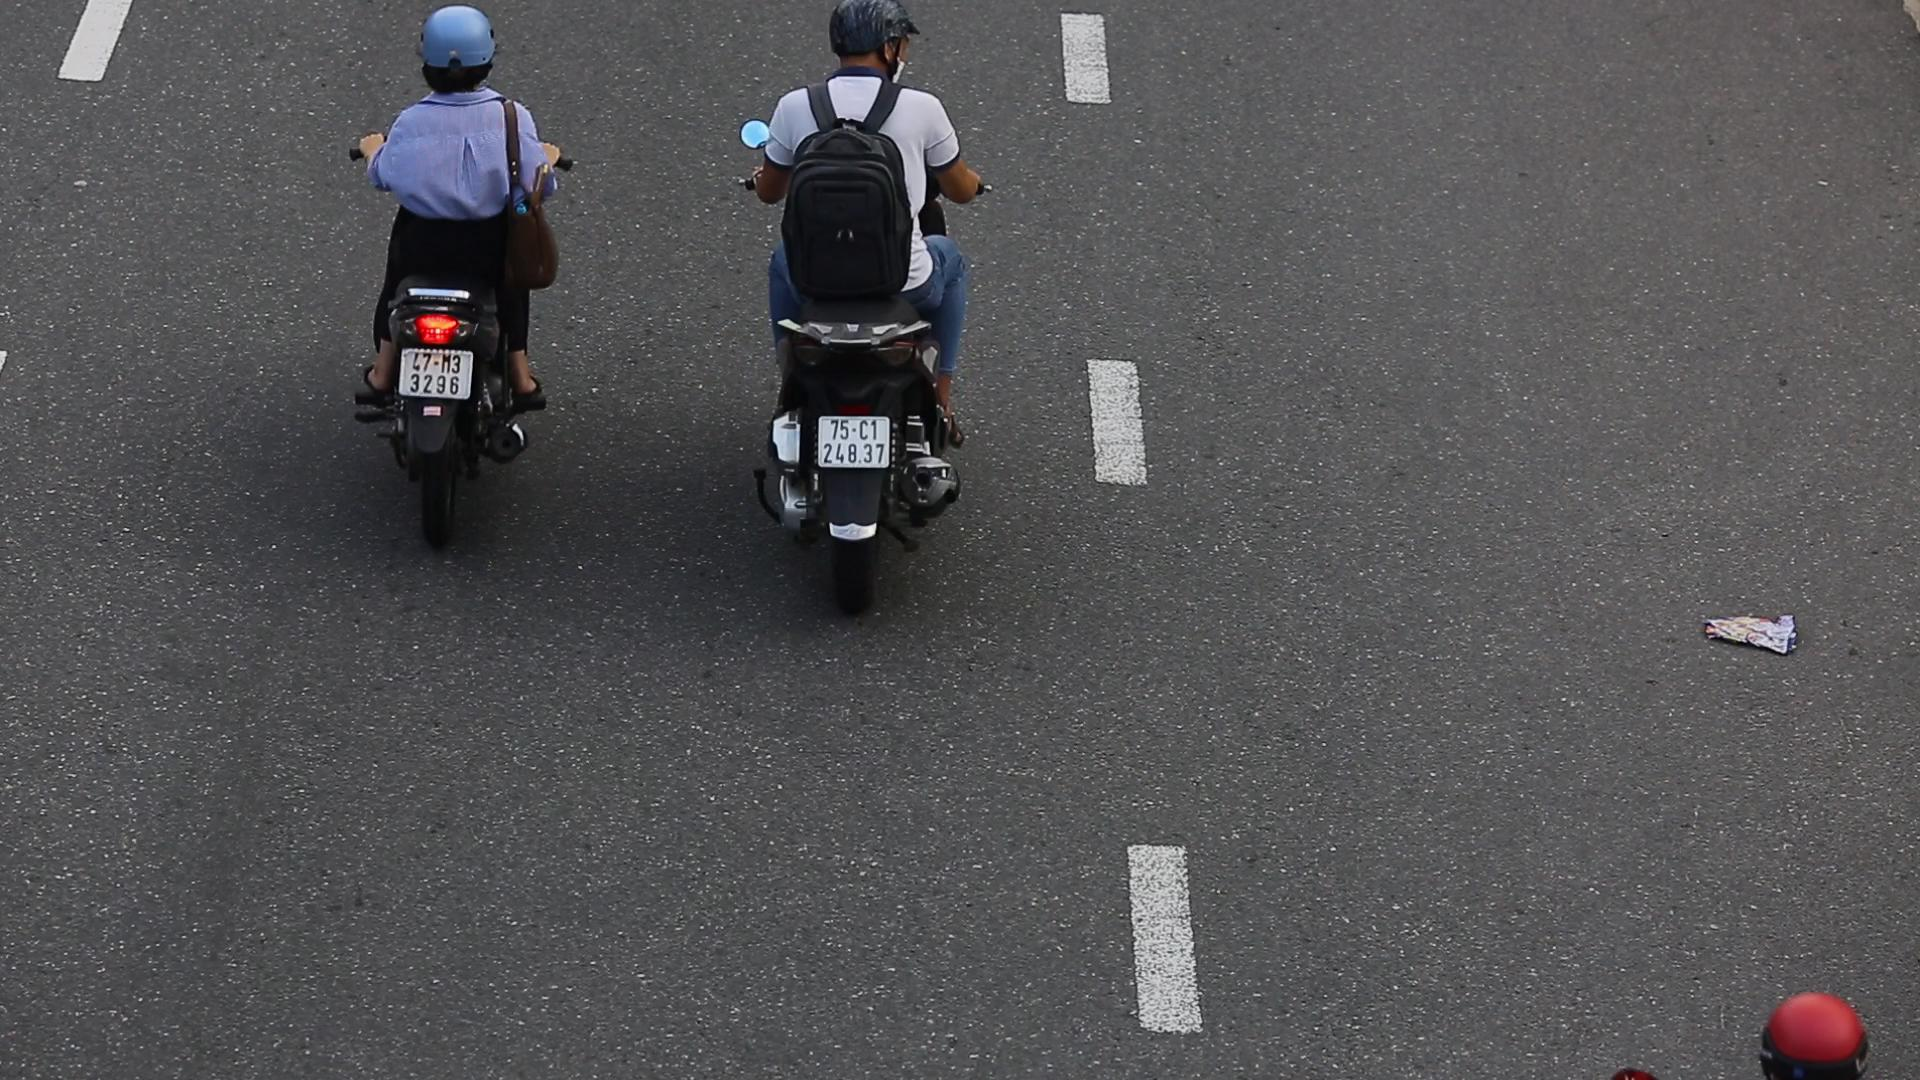motobike: (732, 9, 997, 630), (345, 0, 578, 560)
